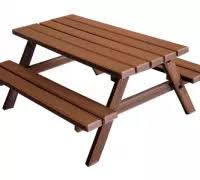obstacle: (1, 8, 199, 174)
